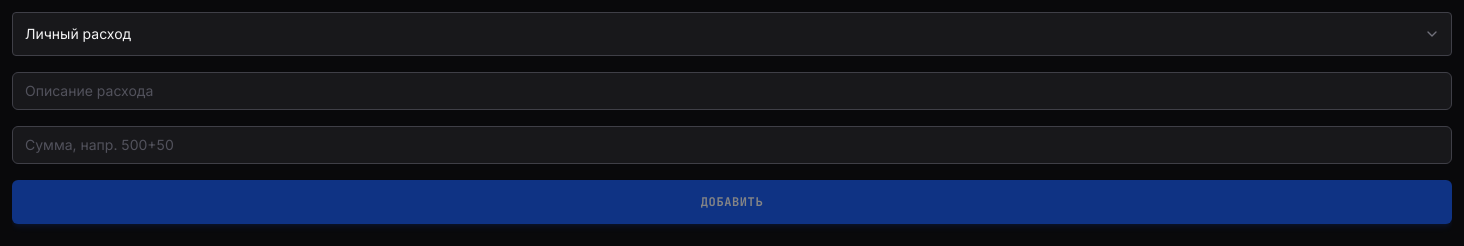
Test: ExpenseForm › runs a submit made while categories load once they are loaded
In the field with placeholder "Описание расхода": (732, 91) [12, 72, 1452, 110], type "молоко"
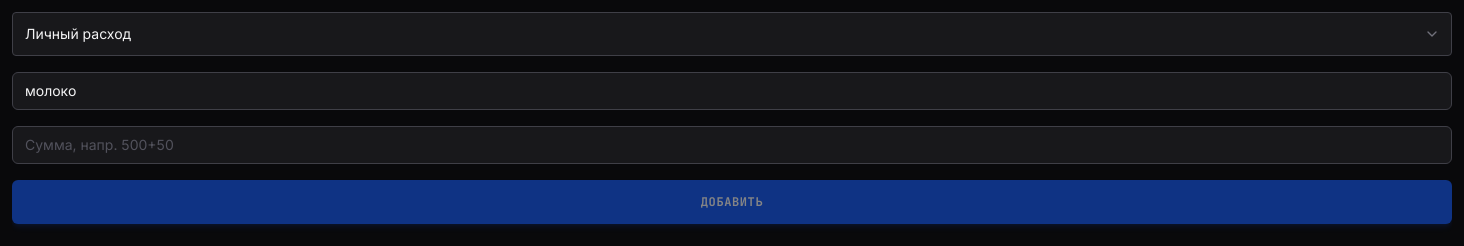
In the field with placeholder "Сумма, напр. 500+50": (732, 145) [12, 126, 1452, 164], type "100"
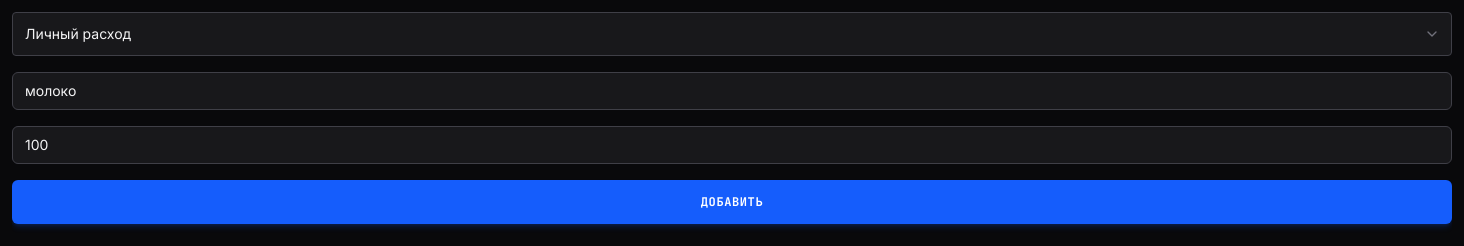
Click the button "Добавить": (732, 202) [12, 180, 1452, 224]
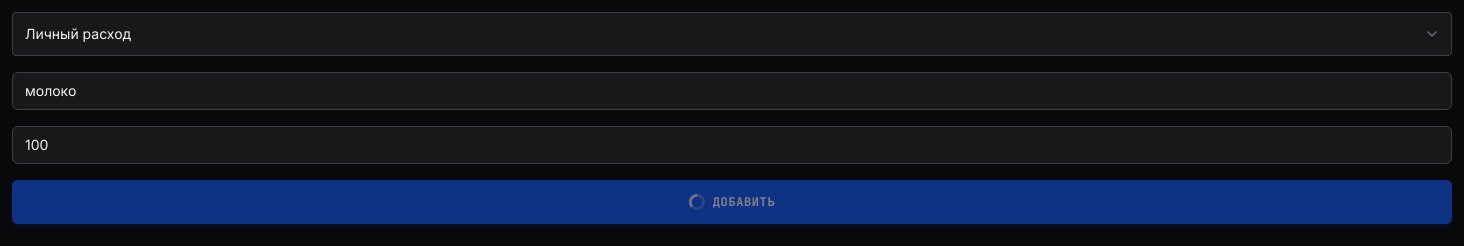
Expected: the button "Добавить" is disabled, [12, 180, 1452, 224]
